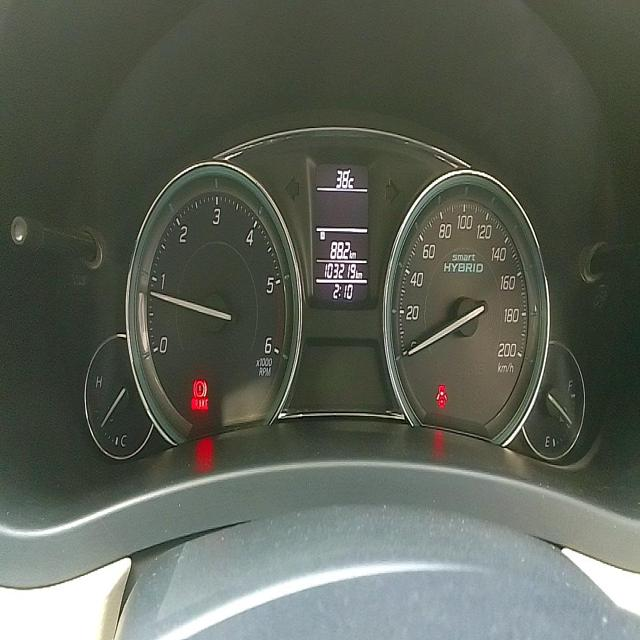odometer: (321, 260, 357, 281)
